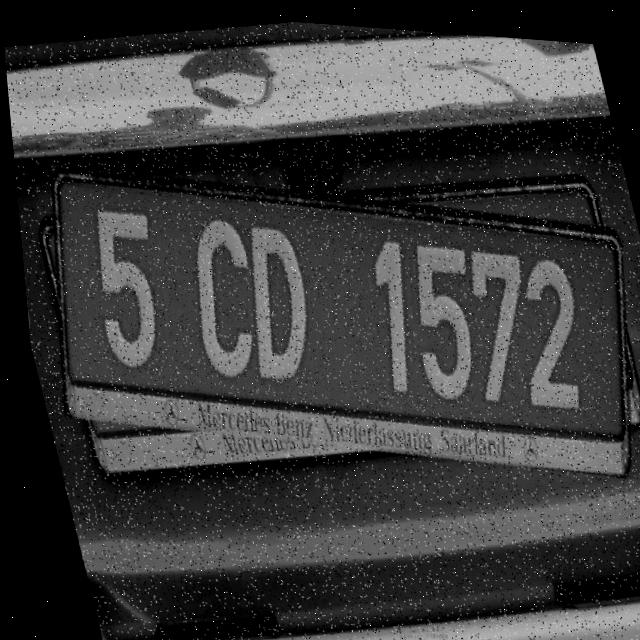LicensePlate: (9, 102, 640, 532)
